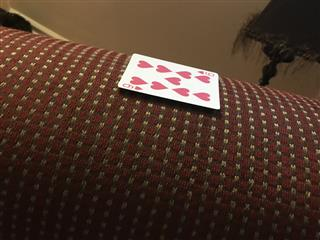NineOfHearts: (116, 52, 221, 110)
